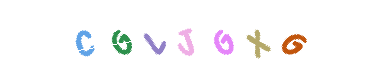C: (43, 0, 123, 80)
G: (81, 0, 161, 80), (165, 0, 245, 80), (253, 0, 333, 80)
J: (147, 0, 227, 80)
L: (115, 0, 195, 80)
X: (209, 0, 289, 80)
